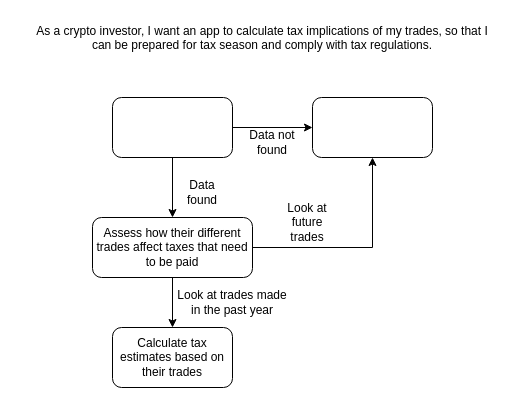
This 524x405 diagram has some shape labels left out. The centre of each missing label's shape, as x and y in pixels:
Display how various trades could affect their taxes: pixel 372 127
Get trade data: pixel 172 127
